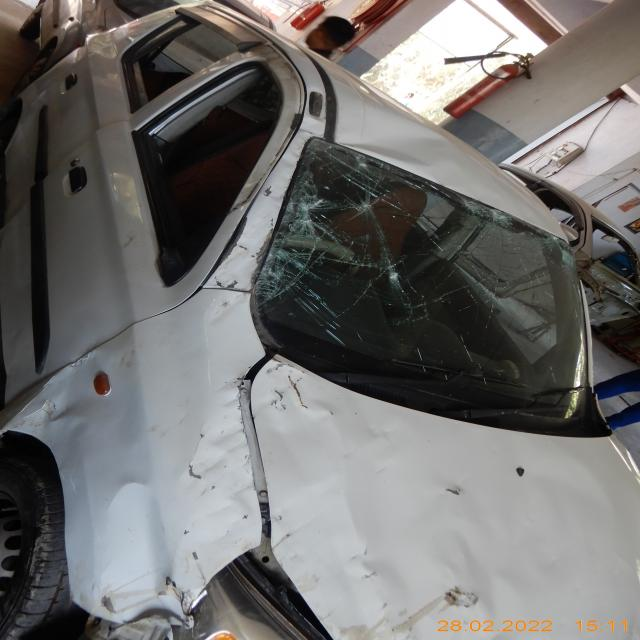damage: (372, 228, 559, 366), (272, 171, 401, 321), (347, 539, 495, 640), (87, 480, 194, 613), (331, 110, 431, 158), (261, 358, 316, 428), (0, 384, 86, 423), (233, 176, 261, 215), (213, 275, 243, 293)
